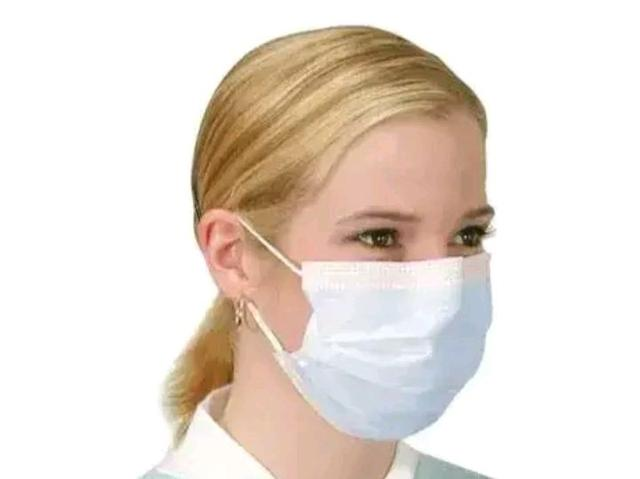mask: (272, 106, 506, 432)
